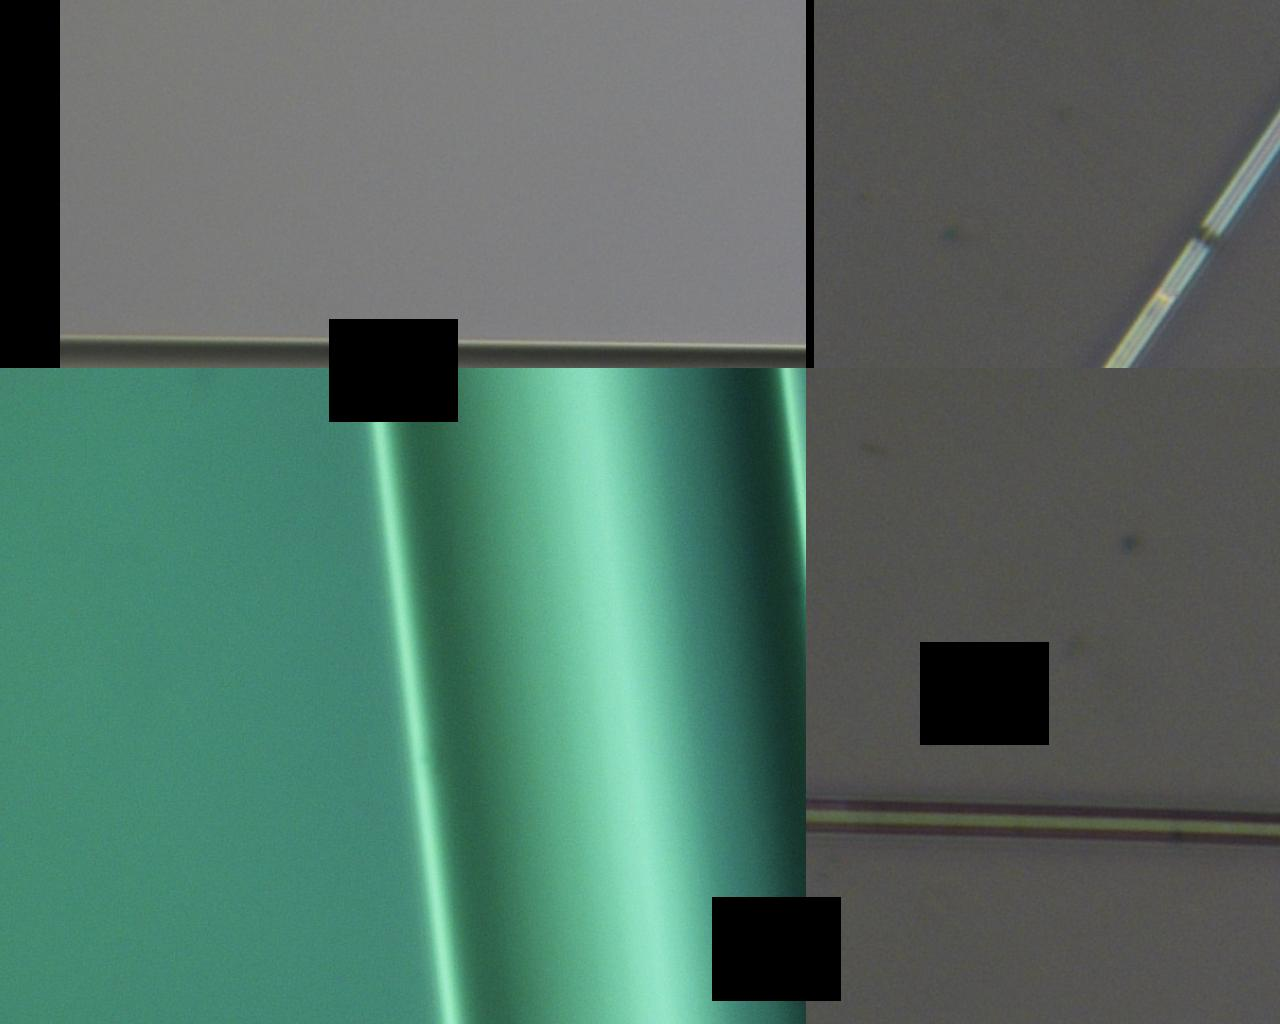fiber: (836, 0, 1280, 475), (445, 665, 832, 1024), (865, 726, 1280, 872), (771, 0, 796, 665)
